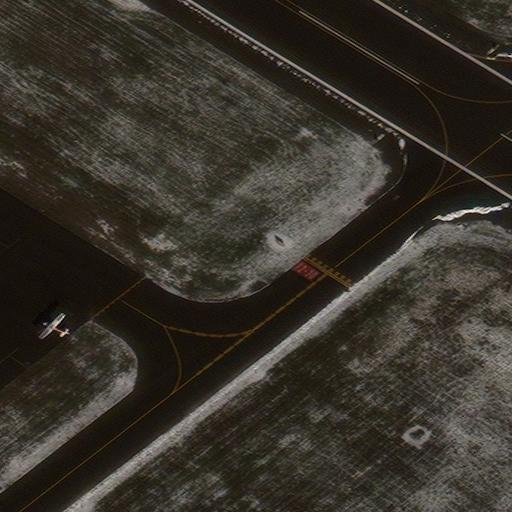Small Civil Transport: (37, 312, 70, 337)
